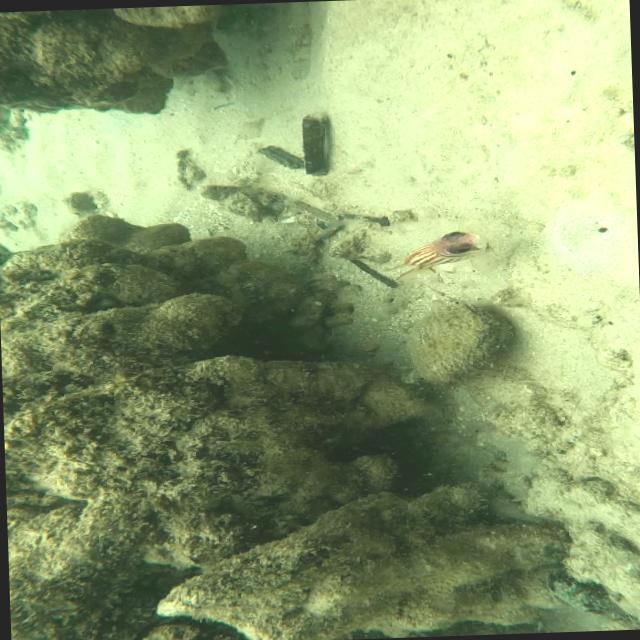Asker Baligi: (368, 221, 508, 282)
